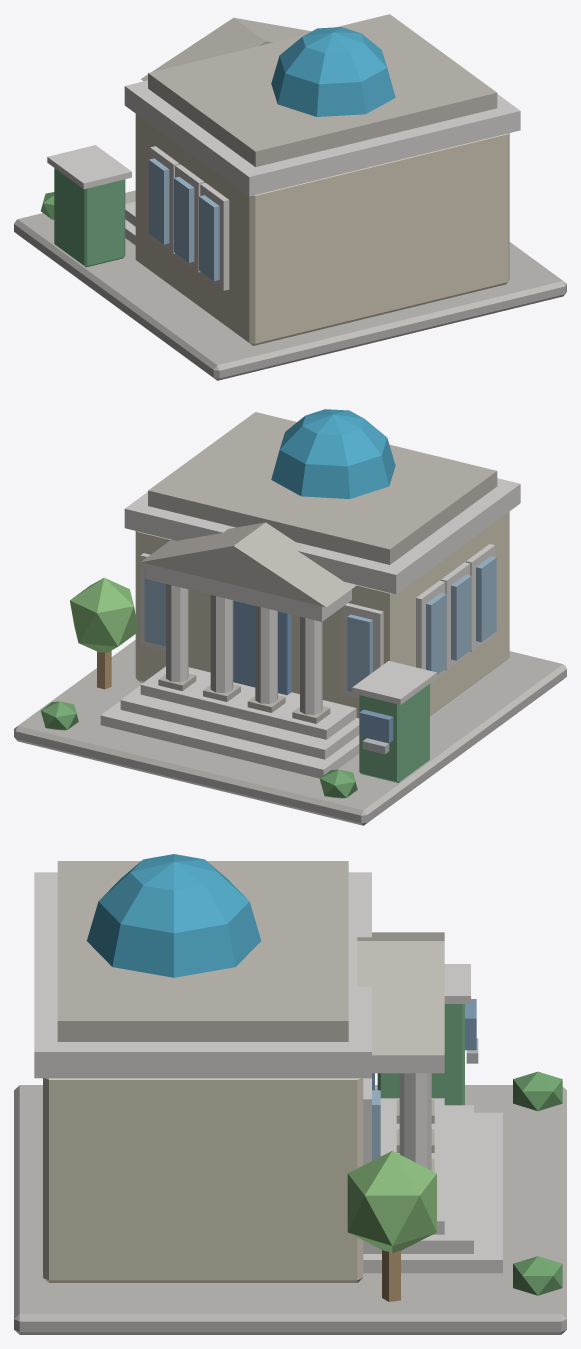
The model's file is comercial__banco.glb.
The picture shows the model from 3 angles, top to bottom: view 1: azimuth 30°, elevation 25°; view 2: azimuth 150°, elevation 25°; view 3: azimuth 270°, elevation 25°; orthographic projection. The views are drawn at different scales.
Visible parts, largest first — view 1: comercial__banco; view 2: comercial__banco; view 3: comercial__banco.
Part boxes in pixels (<box>): comercial__banco: <box>14,14,566,380</box>; comercial__banco: <box>14,409,566,825</box>; comercial__banco: <box>14,854,566,1334</box>.
Size of the model in its own units: 1.91 by 1.36 by 1.9.
